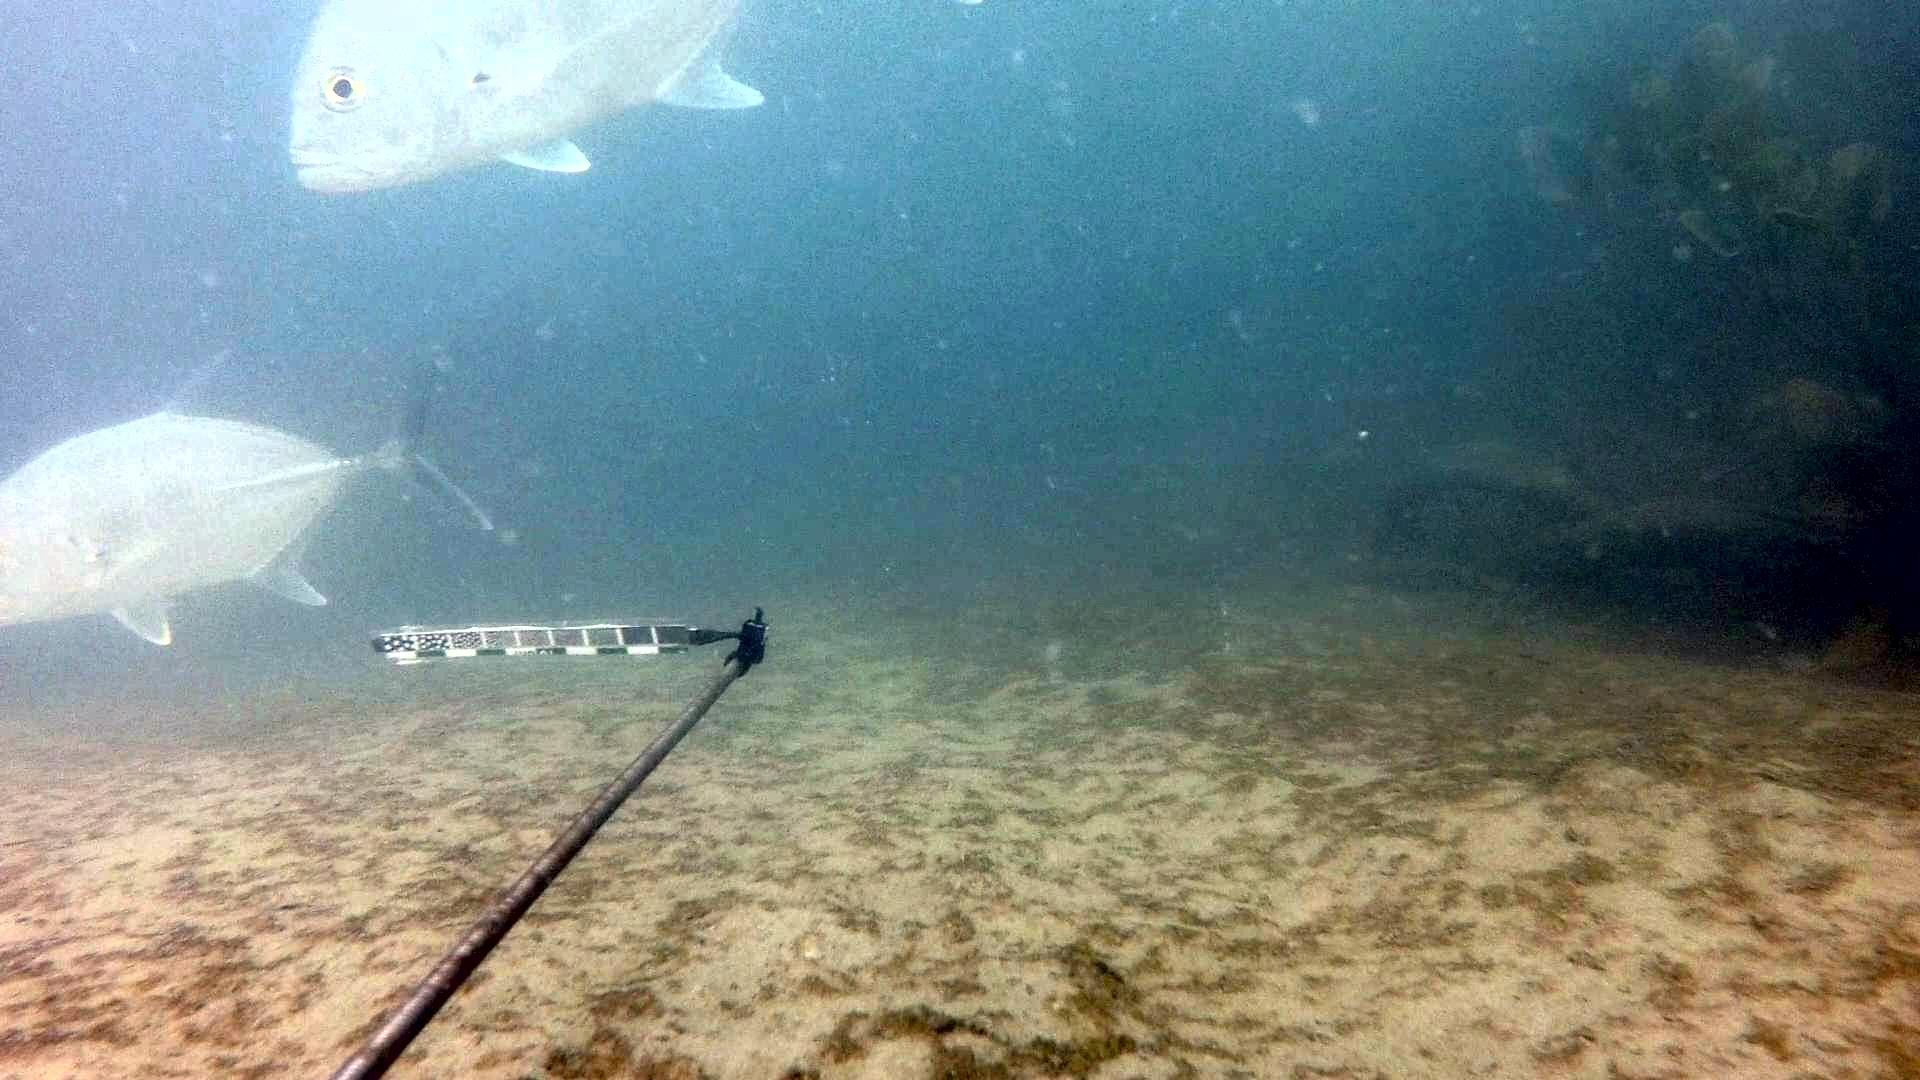caranx: (0, 338, 504, 653), (270, 0, 766, 204)
